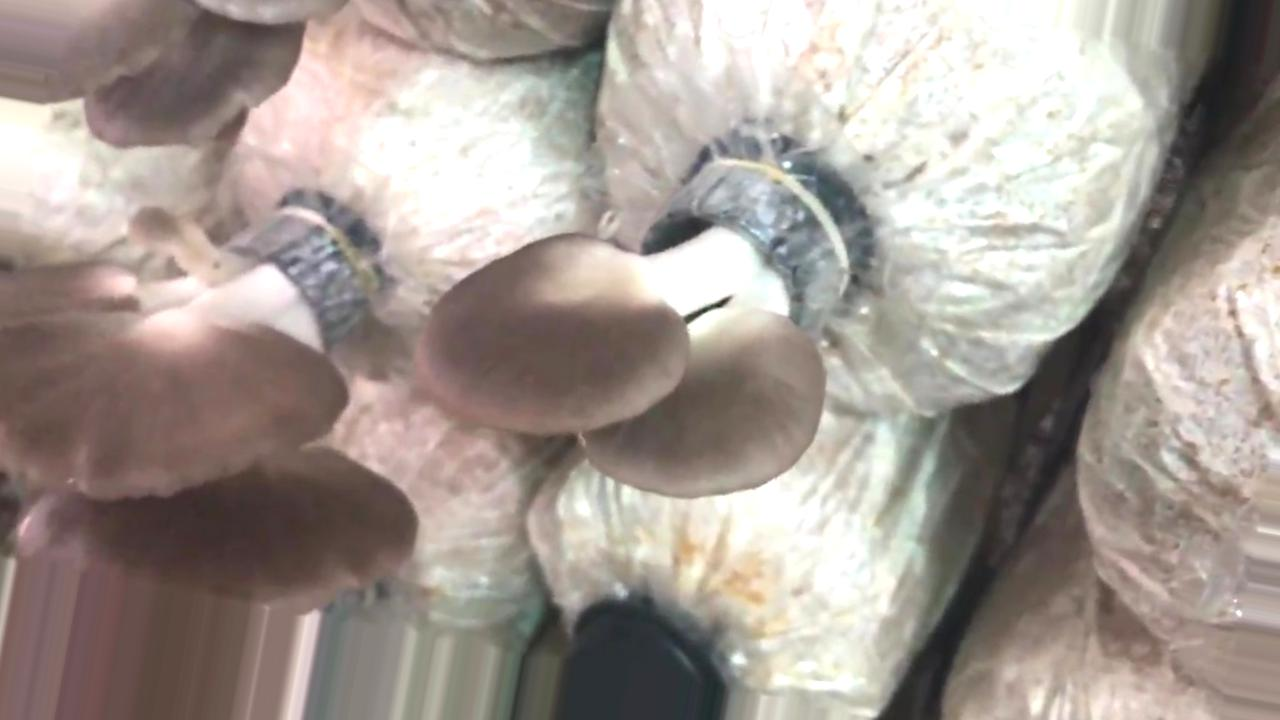nam: (1, 208, 420, 720), (417, 156, 859, 493), (1, 1, 342, 141)
